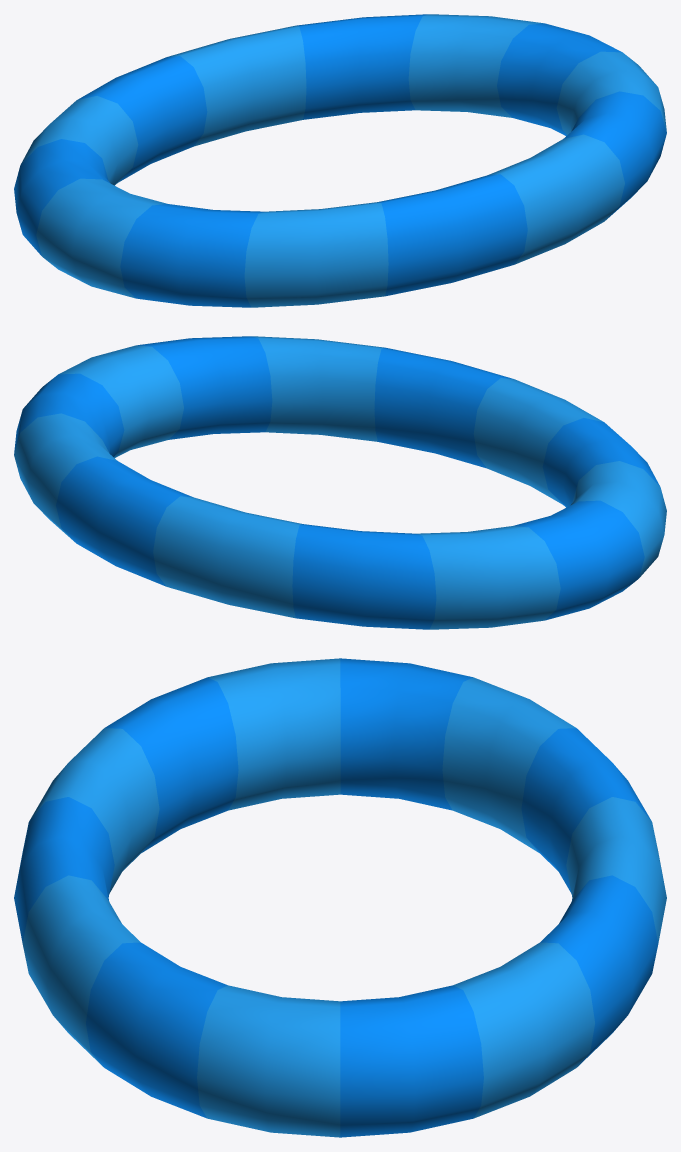
The model's file is Cable link.FBX.
3 renders of one model, top to bottom at view 1: azimuth 30°, elevation 25°; view 2: azimuth 150°, elevation 25°; view 3: azimuth 270°, elevation 25°, orthographic. The views are drawn at different scales.
Visible parts, largest first — view 1: Circle003; view 2: Circle003; view 3: Circle003.
Boxes of the visible parts, x1=… form: Circle003: x1=14, y1=14, x2=666, y2=307; Circle003: x1=14, y1=336, x2=666, y2=629; Circle003: x1=14, y1=658, x2=666, y2=1137.
Bounding box in the file's own units: 42.66 × 6.14 × 29.35.
Materials: 1 (1 with a texture image).
